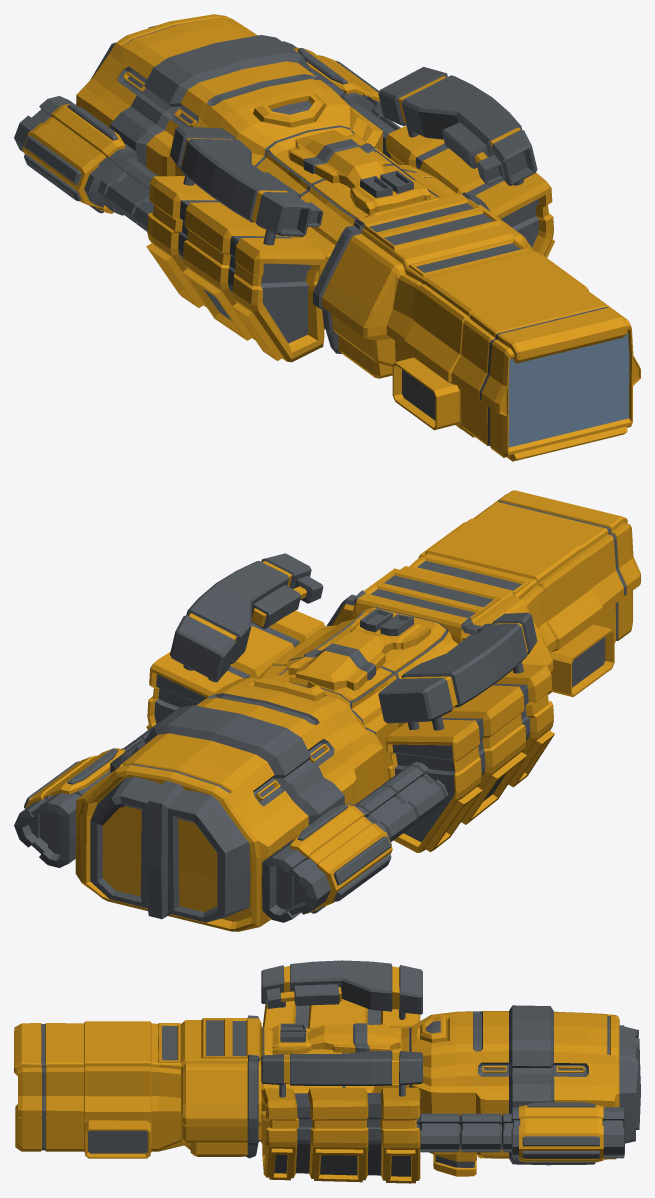
File: Fighter_10_Yellow.fbx
The picture shows the model from 3 angles, top to bottom: view 1: azimuth 30°, elevation 25°; view 2: azimuth 150°, elevation 25°; view 3: azimuth 270°, elevation 25°; orthographic projection. The views are drawn at different scales.
Parts seen in each view (by area): view 1: Fighter_10_Yellow; view 2: Fighter_10_Yellow; view 3: Fighter_10_Yellow.
Part boxes in pixels (box(x1,y1,x2,y2)): Fighter_10_Yellow: box(14, 14, 640, 461); Fighter_10_Yellow: box(14, 490, 640, 931); Fighter_10_Yellow: box(14, 960, 640, 1183).
Bounding box in the file's own units: 1585 × 875 × 3605.
Materials: 3 (3 with a texture image).
